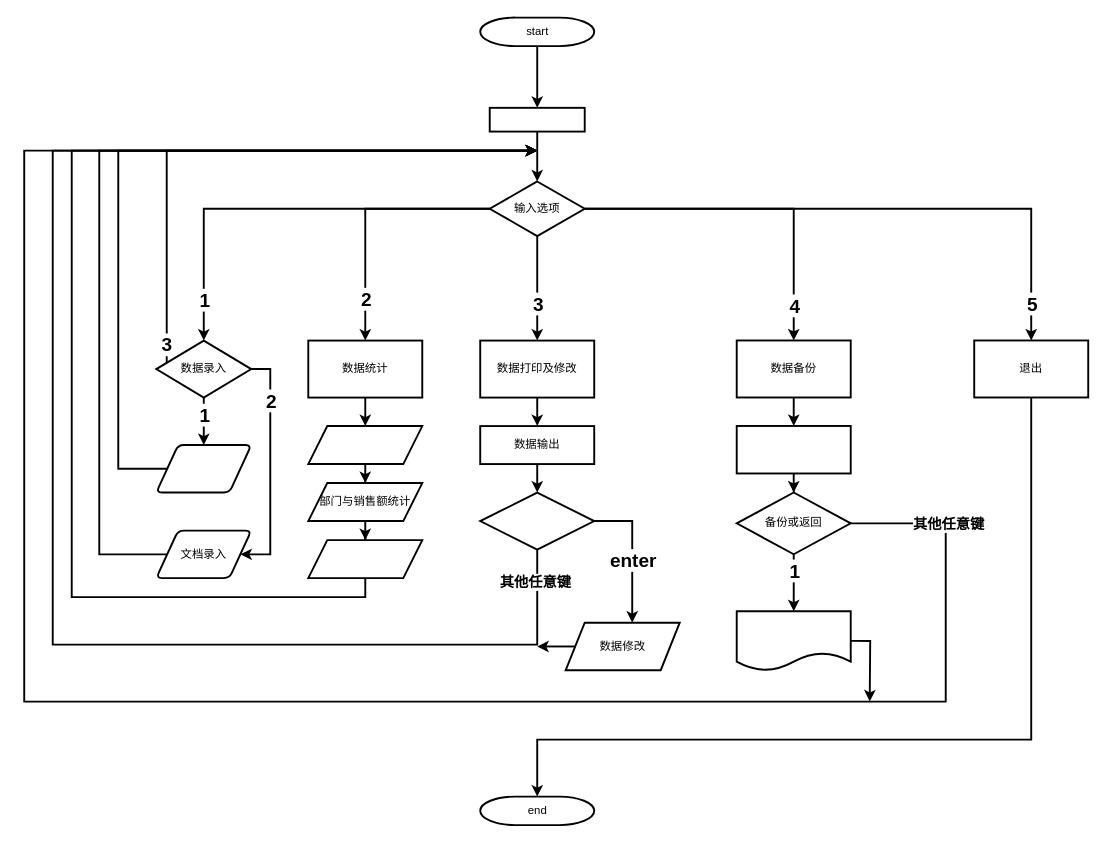
This 1105x842 diagram has some shape labels left out. The centre of each missing label's shape, as x and y in pixels:
"备份菜单" belongs at (793,449).
"工资排名" belongs at (365,559).
"手动录入" belongs at (203,468).
"按职工号排序" belongs at (365,445).
"绘制菜单" belongs at (536,119).
"输出txt文件" belongs at (793,640).
"返回或修改" belongs at (537,520).
